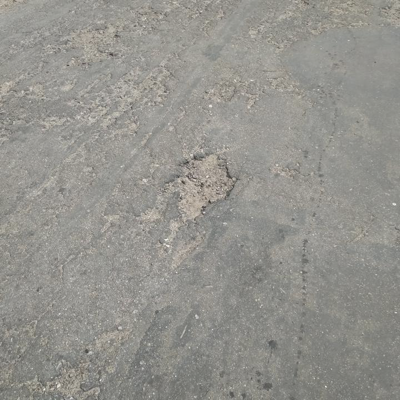pothole: (162, 153, 235, 222), (70, 23, 120, 68)
